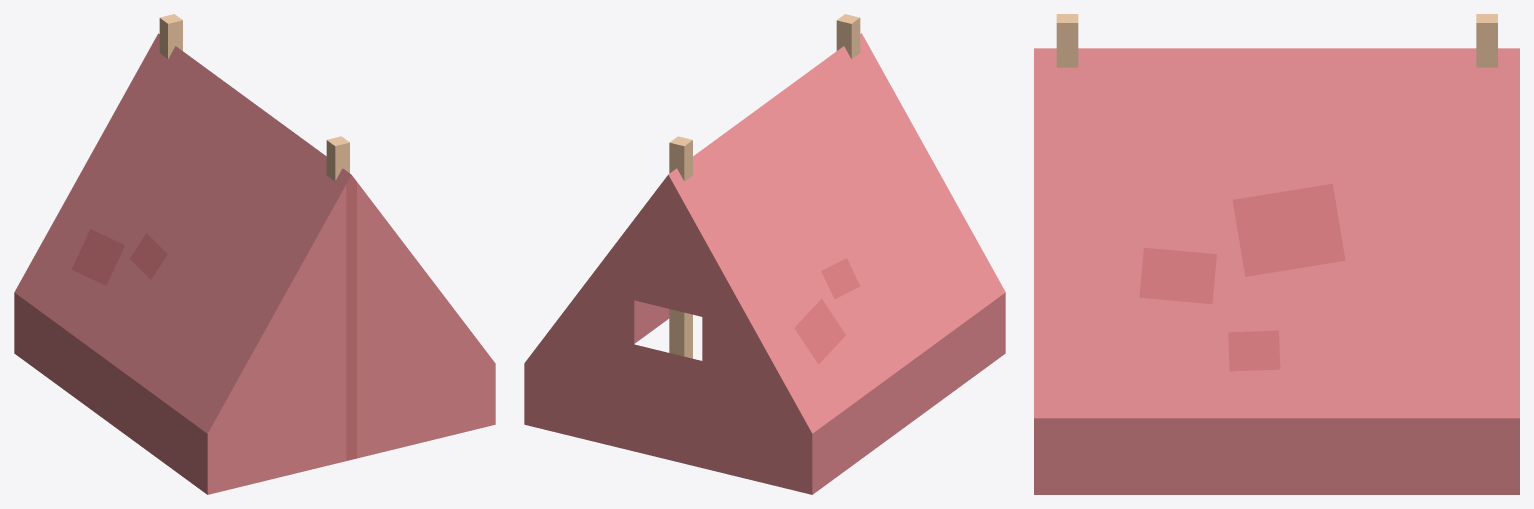
File: tent_smallClosed.glb
3 renders of one model, left to right at view 1: azimuth 30°, elevation 25°; view 2: azimuth 150°, elevation 25°; view 3: azimuth 270°, elevation 25°, orthographic. The views are drawn at different scales.
Visible parts, largest first — view 1: tent_smallClosed; view 2: tent_smallClosed; view 3: tent_smallClosed.
Boxes of the visible parts, x1=… form: tent_smallClosed: x1=14, y1=14, x2=495, y2=494; tent_smallClosed: x1=524, y1=14, x2=1005, y2=494; tent_smallClosed: x1=1034, y1=14, x2=1519, y2=494.
Bounding box in the file's own units: 0.5476 × 0.5611 × 0.6364.
